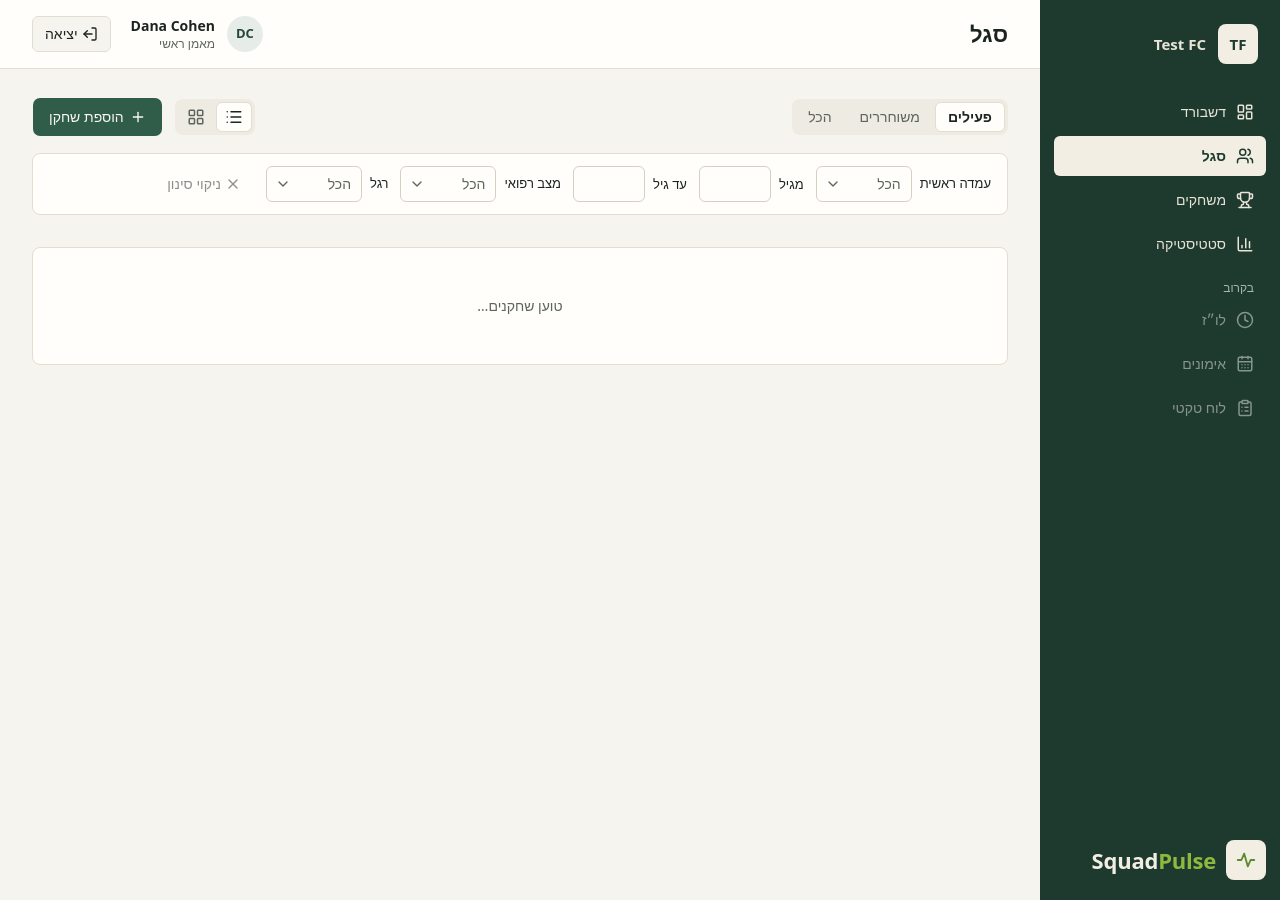
Test case: 'חזרה לסגל' from the player card › returns to the filters and the cards view chosen on the squad, and the list query has no view
Expected: the element named "סטטוס שחקנים" is shown, [792, 99, 1008, 135]
Click the dropdown named "עמדה ראשית" at (864, 184), box [816, 166, 912, 202]
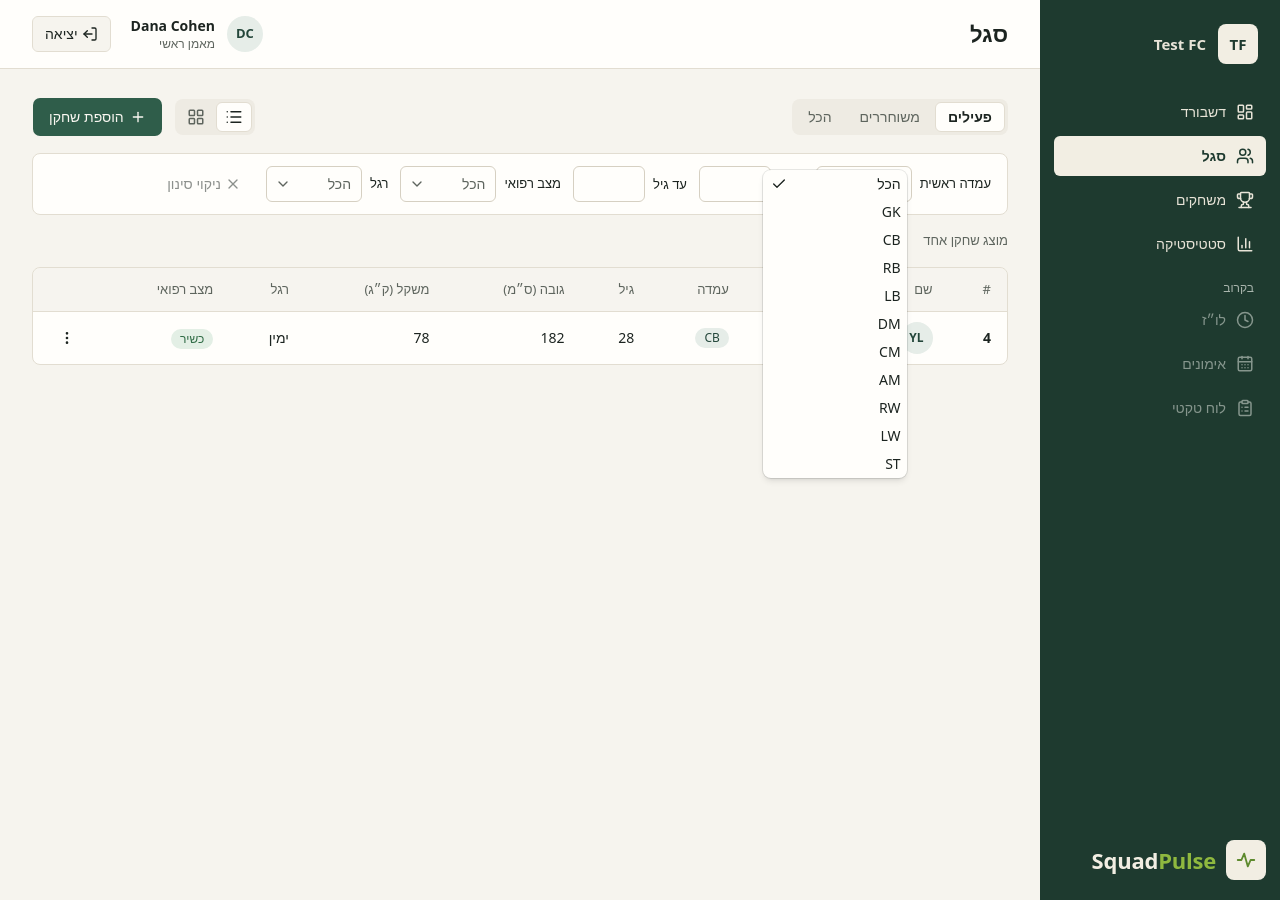
Click the option "CB" at (892, 240), box [883, 230, 901, 249]
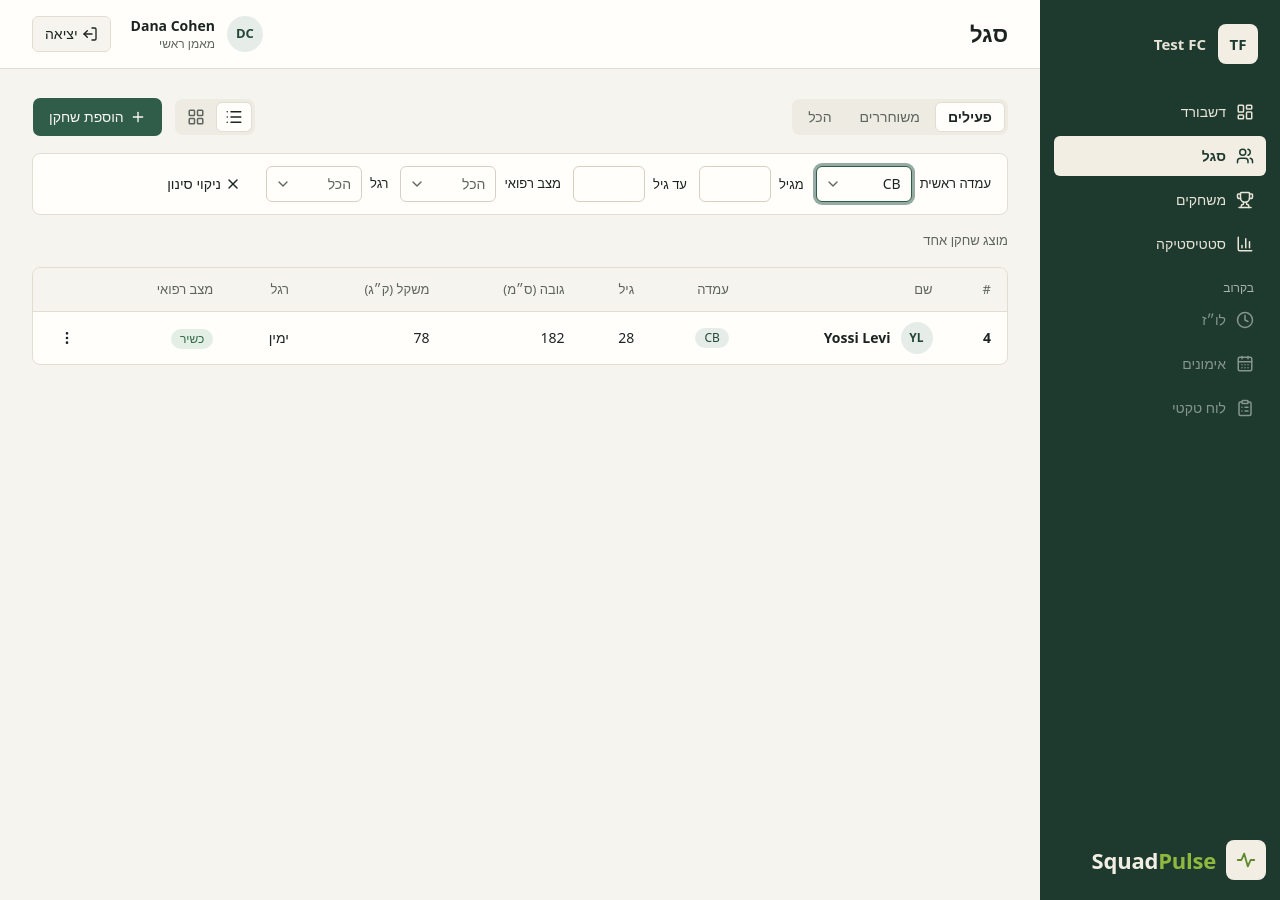
Now the list "הכל GK CB RB LB DM CM AM RW LW ST" is gone
Click the radio button named "כרטיסיות" at (196, 117), box [187, 108, 205, 126]
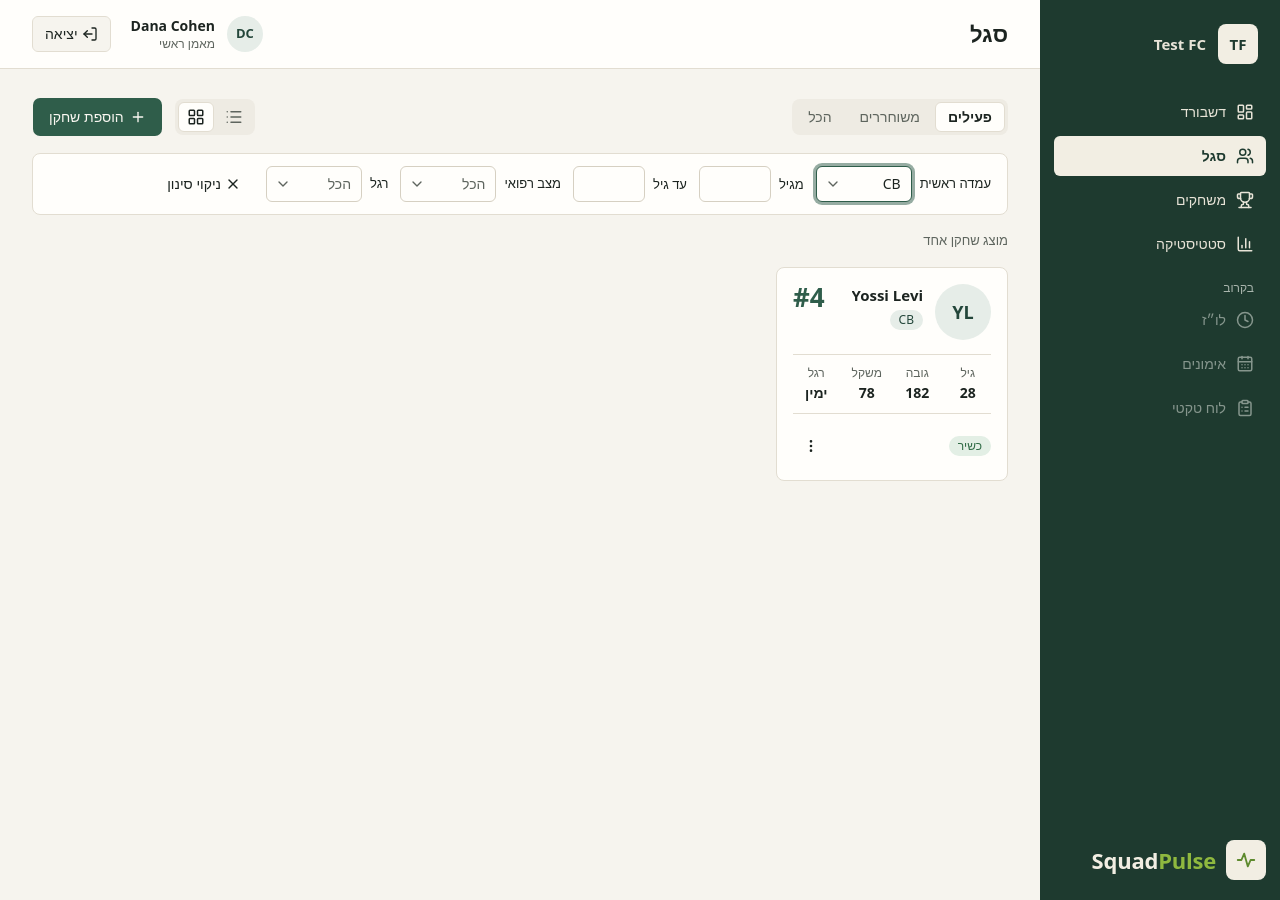
Expected: the element named "סטטוס שחקנים" is shown, [792, 99, 1008, 135]
Now the list "YL Yossi Levi CB #4 גיל 28 גובה 182 משקל 78 רגל ימין כשיר" is shown, box [776, 266, 1008, 480]
Click the link "Yossi Levi" at (887, 295), box [852, 284, 923, 306]
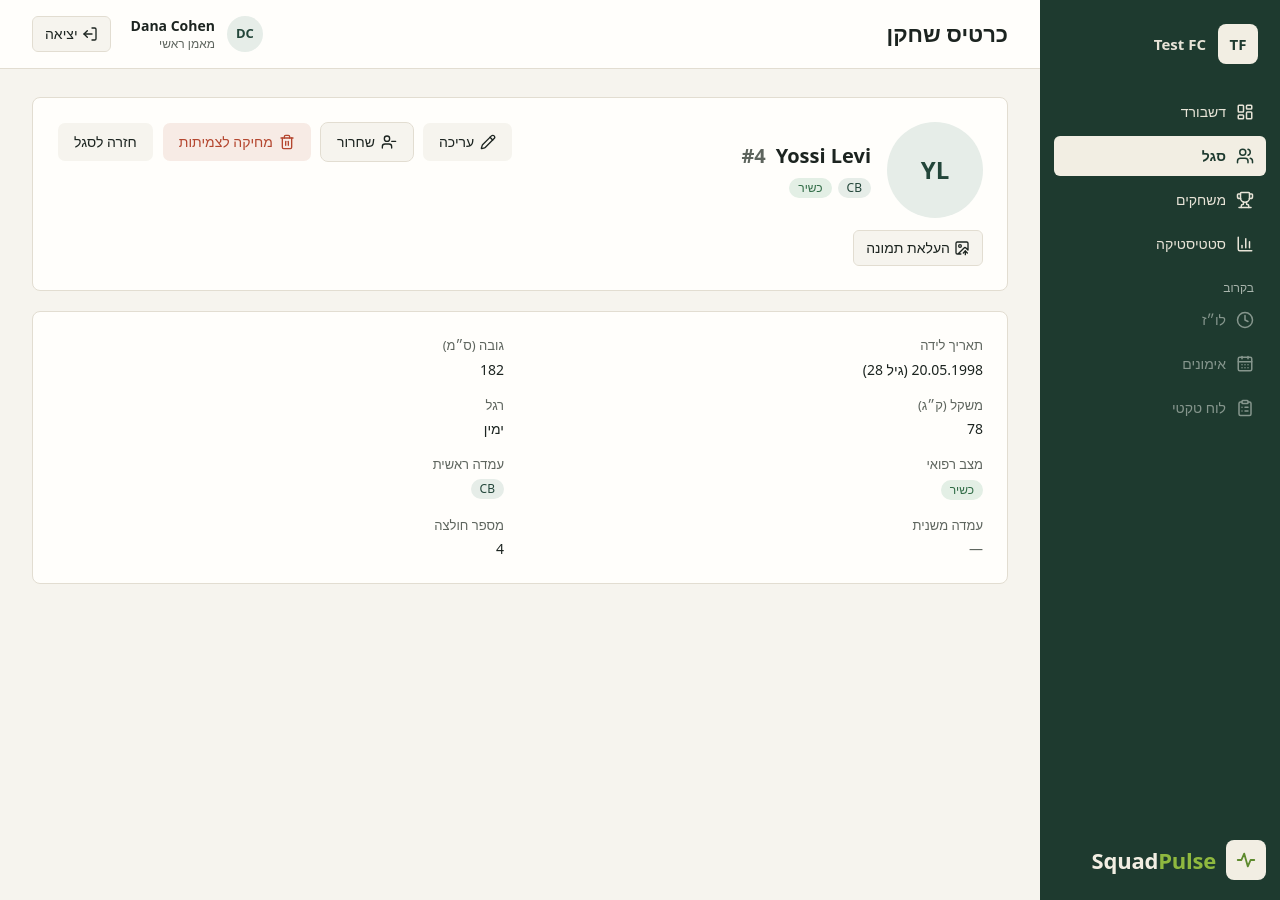
Click the link "חזרה לסגל" at (105, 142), box [57, 122, 154, 162]
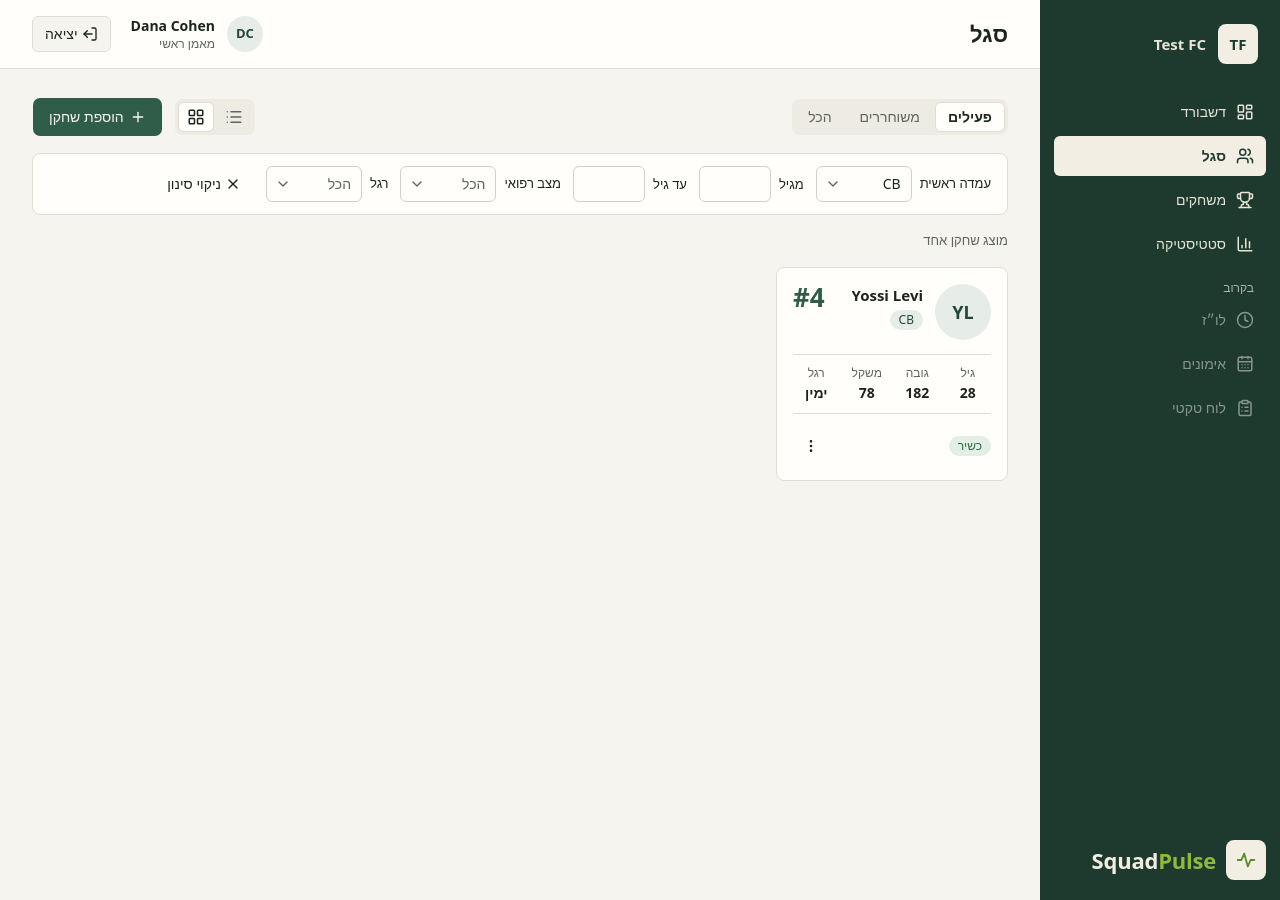
Now the element named "סטטוס שחקנים" is shown, box [792, 99, 1008, 135]
Now the list "YL Yossi Levi CB #4 גיל 28 גובה 182 משקל 78 רגל ימין כשיר" is shown, box [776, 266, 1008, 480]
Now the radio button named "כרטיסיות" is checked, box [178, 102, 214, 132]
